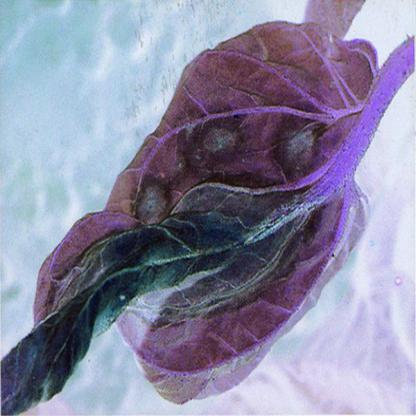Tomato leaf late blight: (6, 24, 383, 401)
